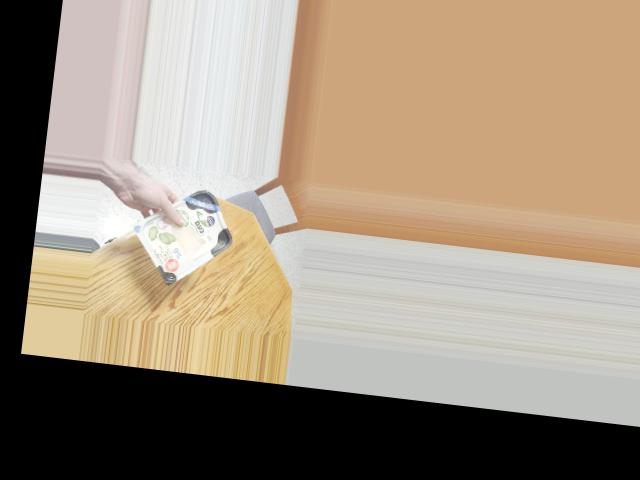cheese: (143, 182, 238, 283)
